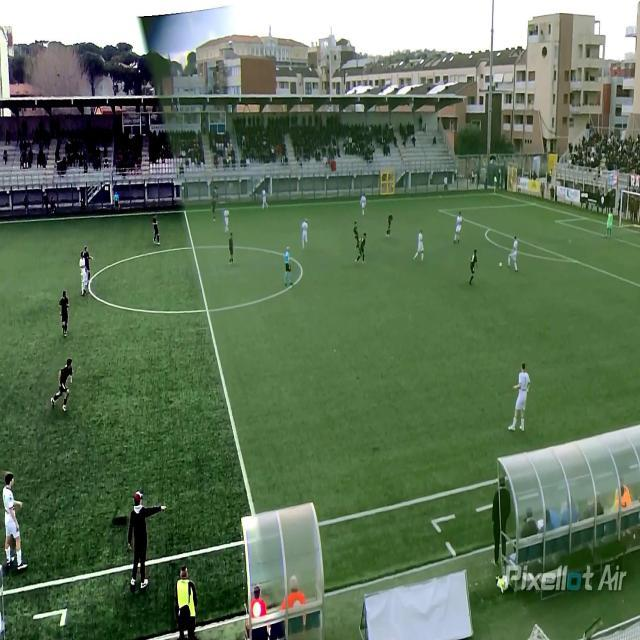arbitro: (386, 214, 393, 236)
football: (498, 261, 502, 267)
goleiro: (606, 212, 613, 237)
jogador: (2, 472, 27, 574), (512, 362, 532, 432), (50, 355, 73, 411), (57, 293, 70, 336), (79, 257, 90, 295), (507, 240, 519, 272), (413, 231, 425, 261), (468, 250, 478, 285), (80, 246, 92, 274), (453, 213, 462, 243), (152, 217, 160, 246), (284, 247, 292, 274), (301, 219, 308, 247), (359, 234, 366, 262), (228, 234, 234, 264), (223, 209, 230, 233), (360, 194, 367, 216), (211, 188, 218, 210), (261, 190, 269, 209), (353, 222, 359, 244)
